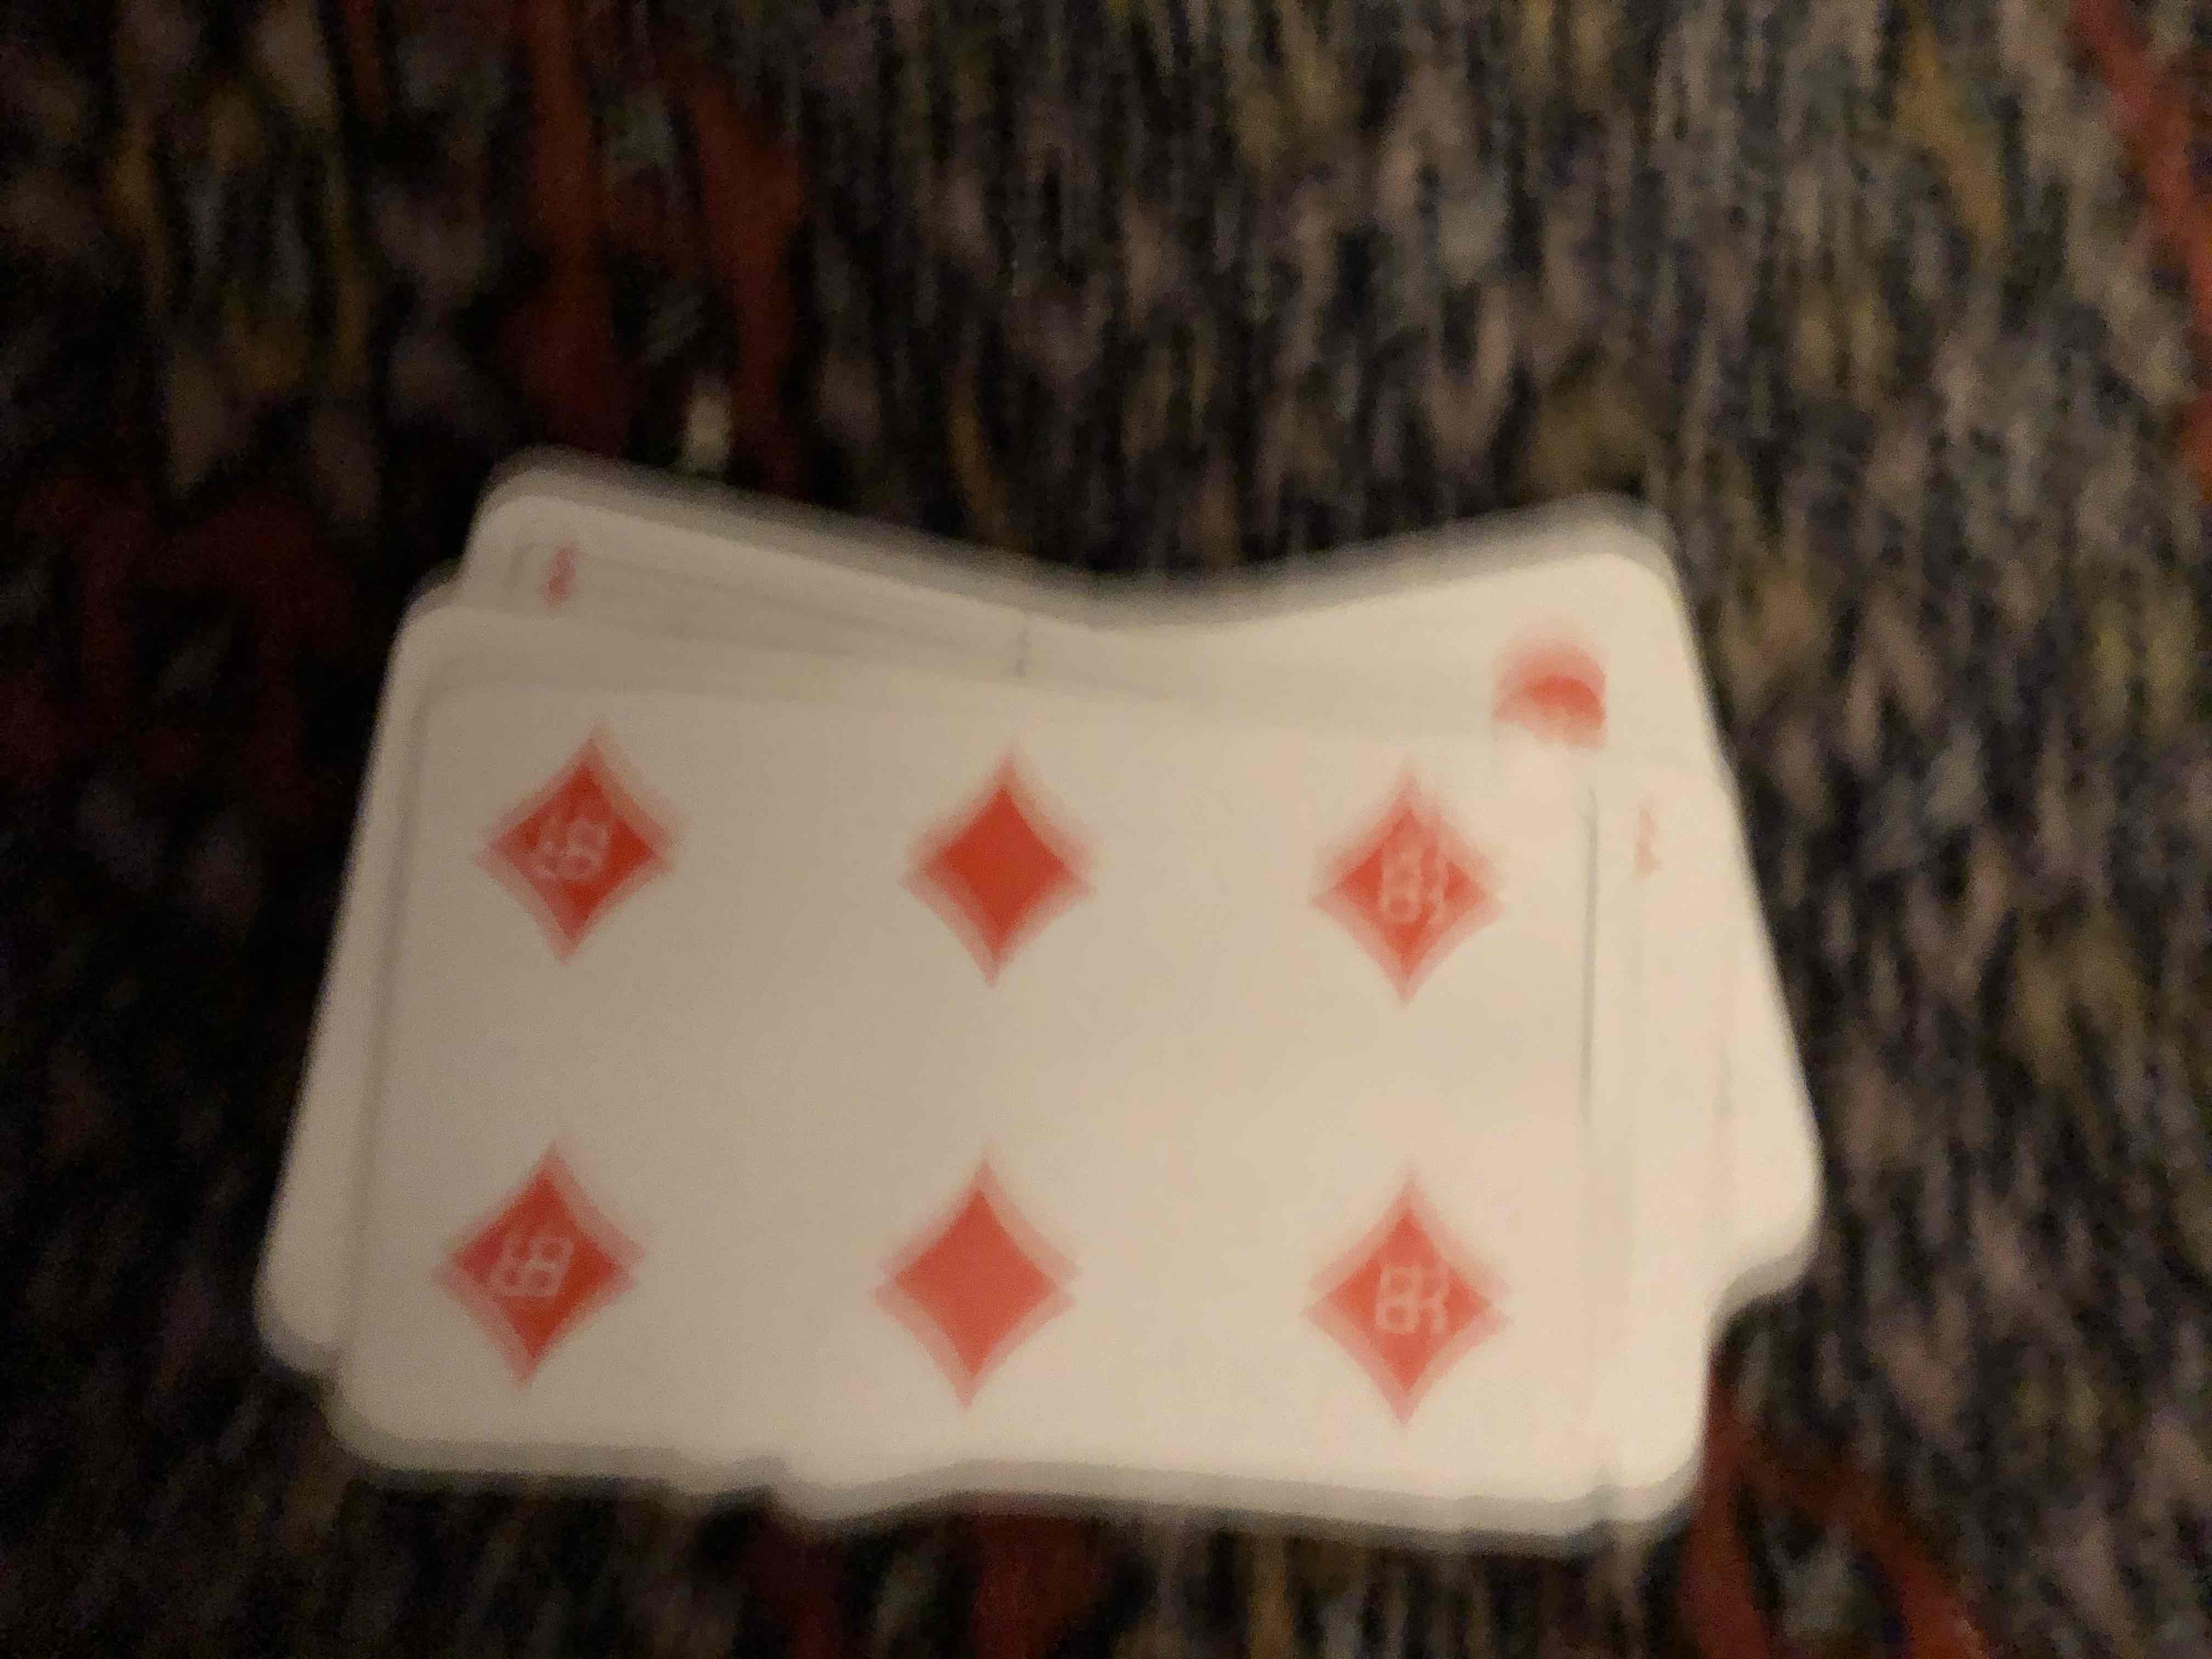diamond6: (434, 680, 1667, 1493)
